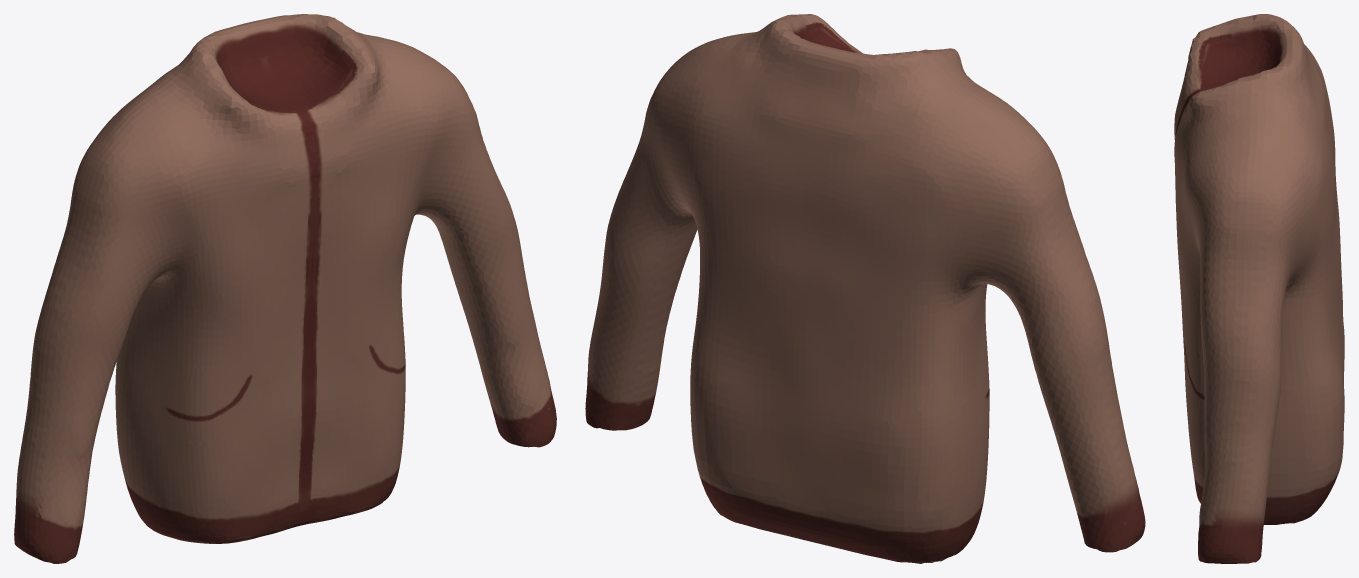
File: Spoontheory_Jacket 1.fbx
3 views of the same model, side by side, from view 1: azimuth 30°, elevation 25°; view 2: azimuth 150°, elevation 25°; view 3: azimuth 270°, elevation 25° (orthographic). The views are drawn at different scales.
Parts seen in each view (by area): view 1: Cube; view 2: Cube; view 3: Cube.
Part boxes in pixels (x1,y1,x2,y2): Cube: [14, 14, 556, 563]; Cube: [585, 14, 1145, 563]; Cube: [1174, 14, 1344, 563].
Bounding box in the file's own units: 257 × 218 × 77.96.
